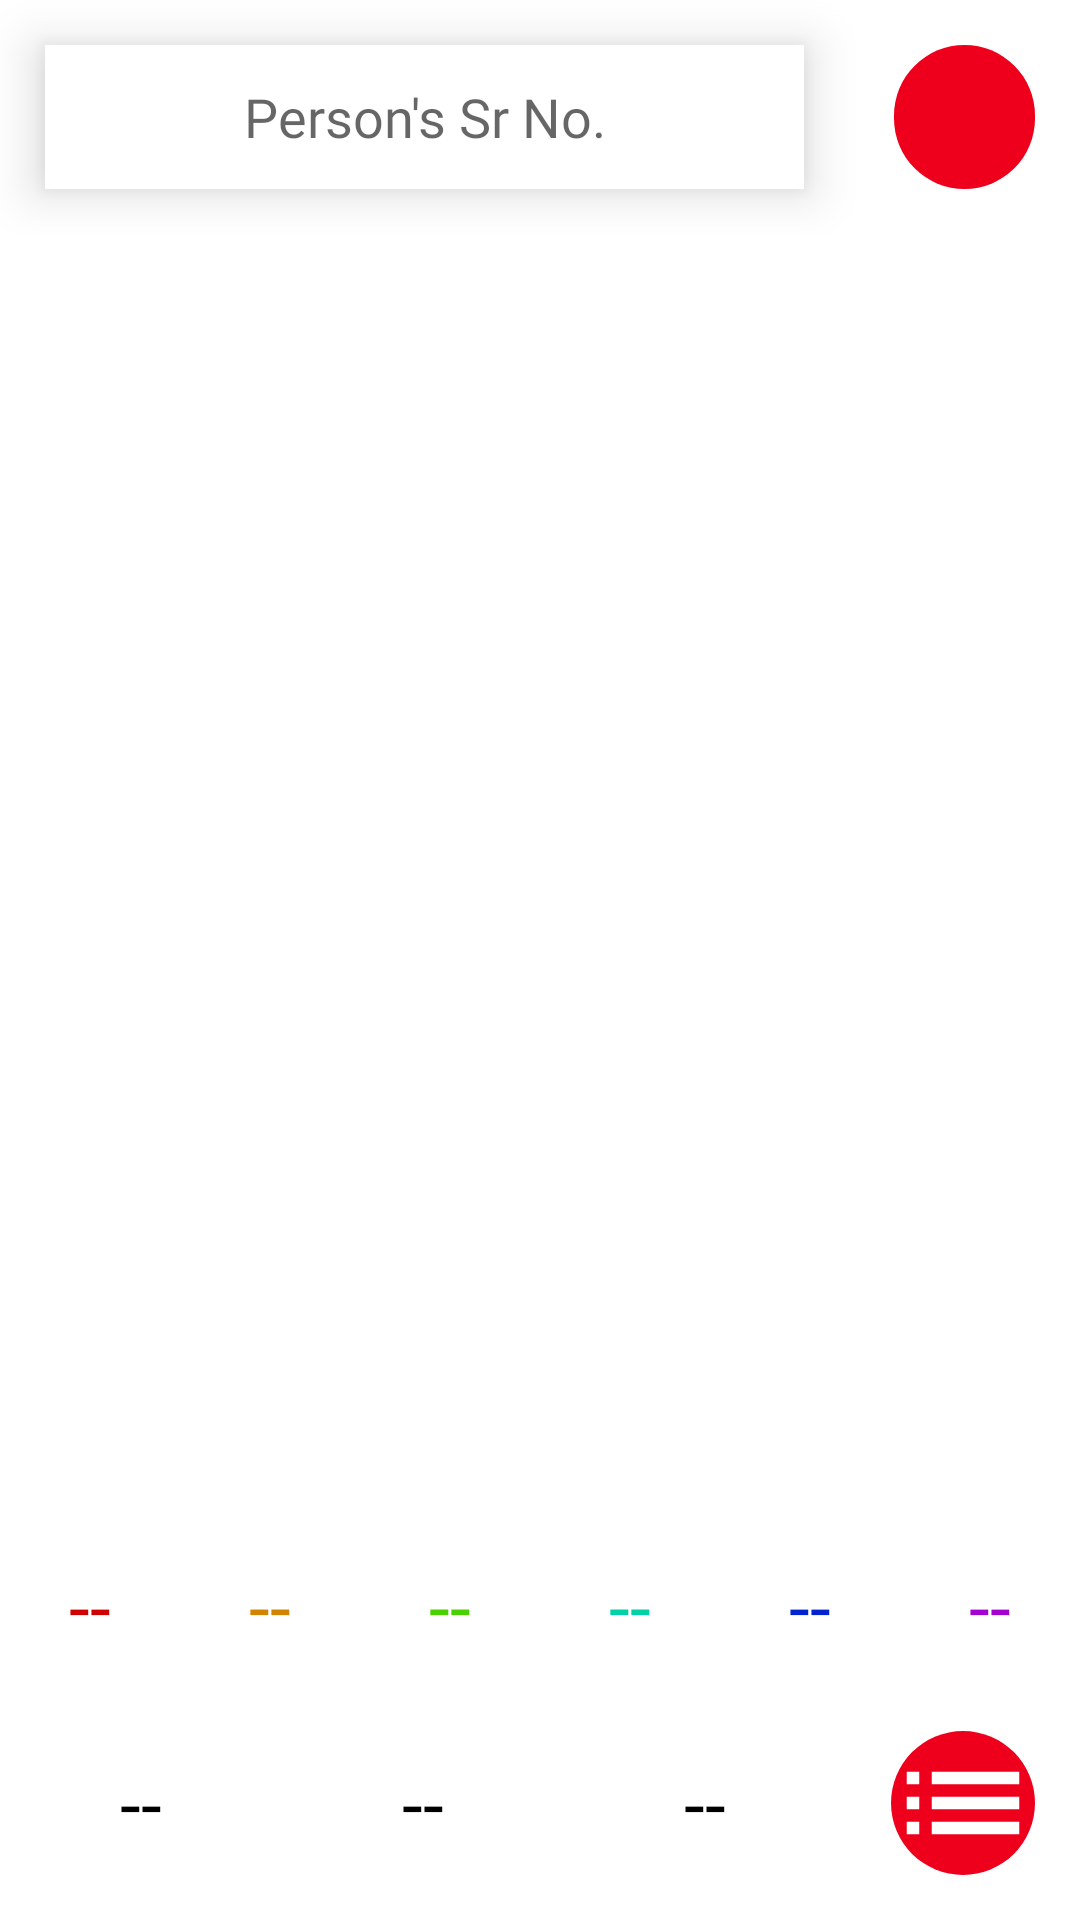

Icons on this 1080x1920 Android screen, each with the point to tap as [x,y]:
list: [963,1803]
